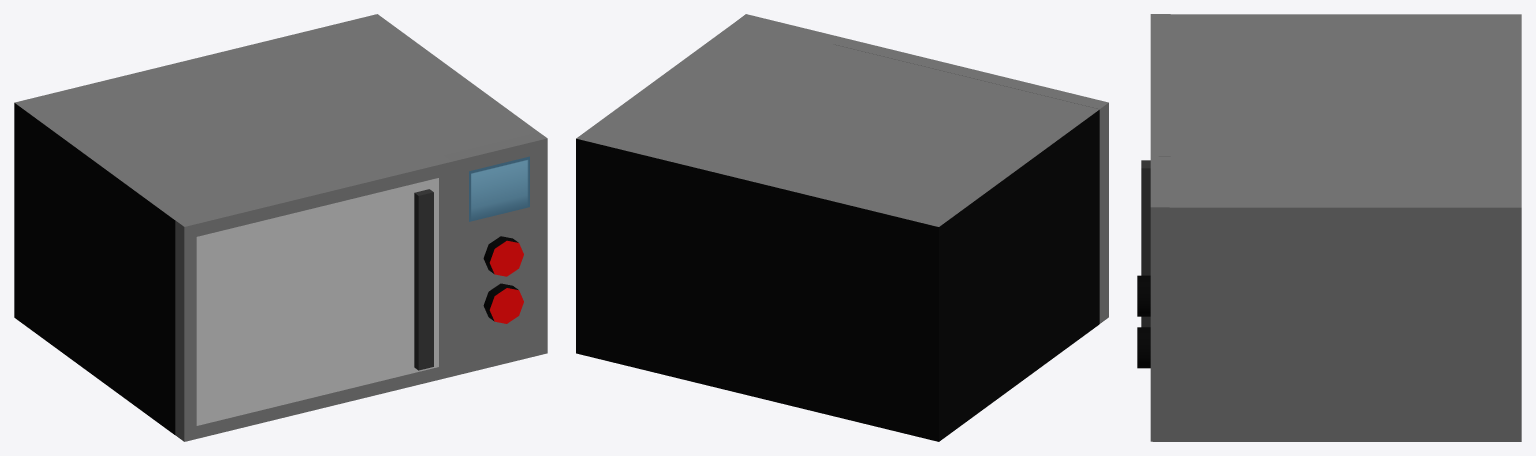
The model's file is Microwave.fbx.
3 renders of one model, left to right at view 1: azimuth 30°, elevation 25°; view 2: azimuth 150°, elevation 25°; view 3: azimuth 270°, elevation 25°, orthographic. The views are drawn at different scales.
Parts seen in each view (by area): view 1: Microwave, Object121; view 2: Microwave, Object121; view 3: Microwave, Object121.
Part boxes in pixels (x1,y1,x2,y2): Microwave: [14, 14, 547, 434]; Object121: [175, 155, 451, 441]; Microwave: [576, 14, 1099, 441]; Object121: [833, 37, 1108, 323]; Microwave: [1137, 14, 1521, 441]; Object121: [1141, 14, 1170, 327].
Size of the model in its own units: 59.97 by 33.95 by 50.41.
